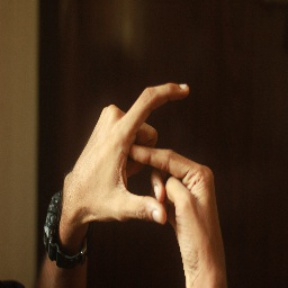E: (109, 71, 203, 223)
